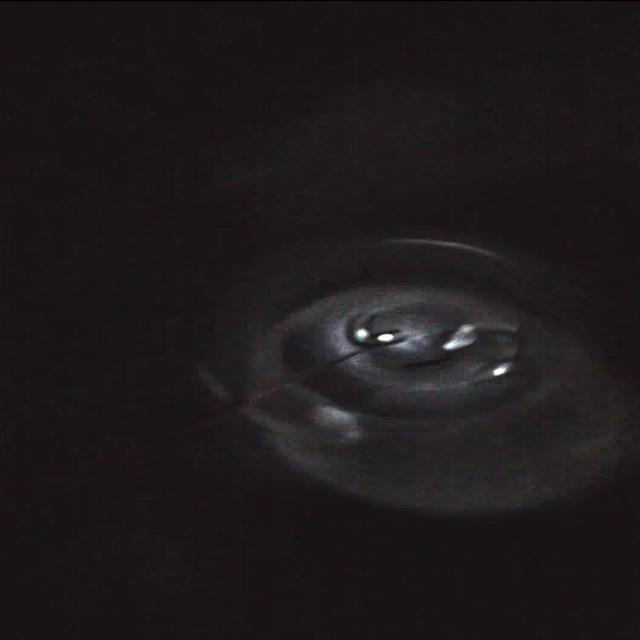impurity: (472, 324, 526, 358), (440, 322, 474, 354)
